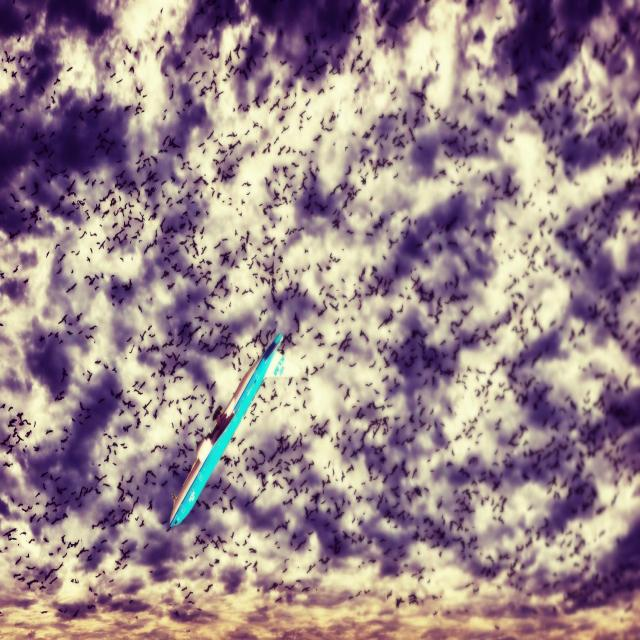airplane: (165, 331, 289, 532)
